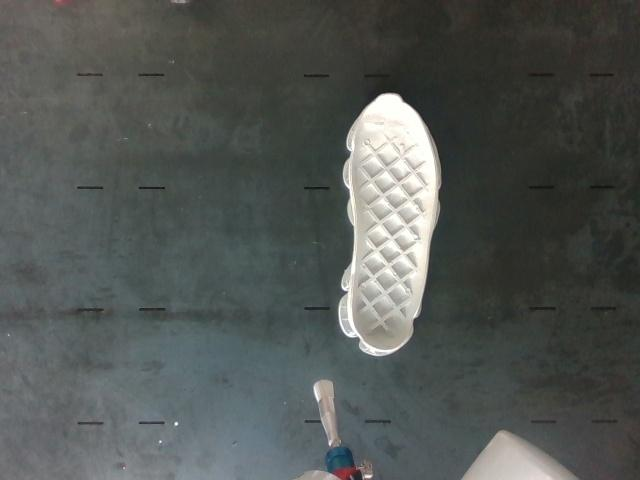shoes: (351, 95, 435, 351)
